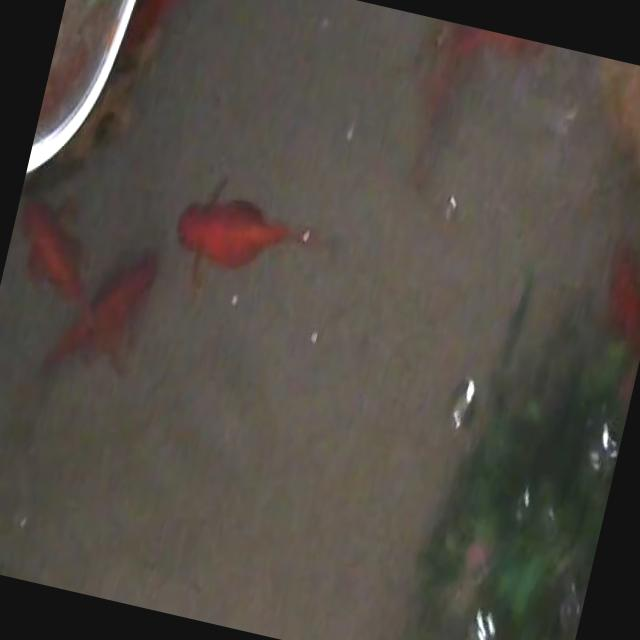fish: (160, 169, 331, 305), (402, 18, 546, 164), (46, 228, 163, 400), (5, 185, 104, 319), (581, 240, 640, 395), (123, 0, 204, 79)
